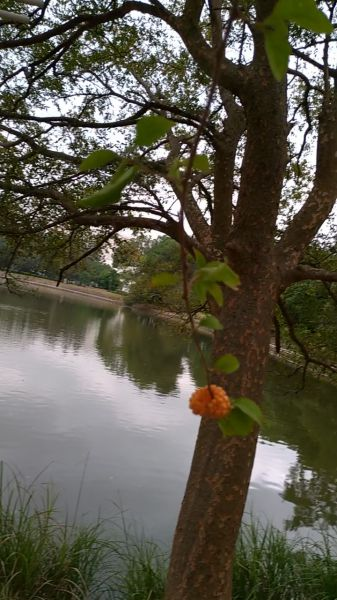eggs: (182, 378, 235, 420)
